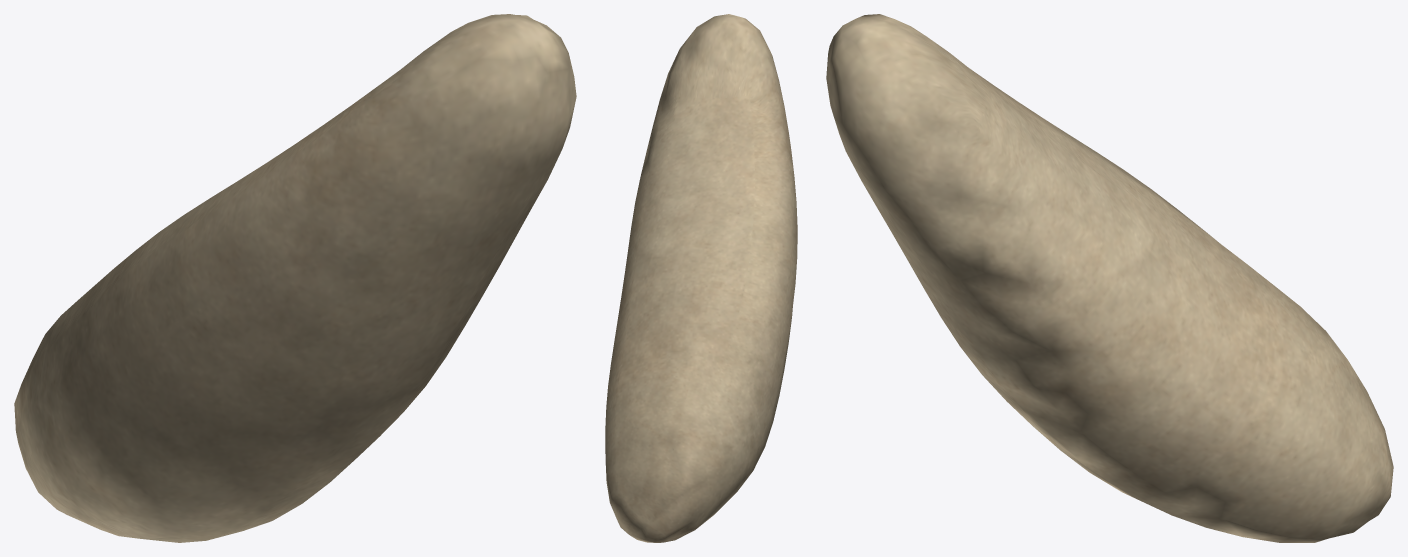
Rendered from lower_canine.glb.
3 renders of one model, left to right at view 1: azimuth 30°, elevation 25°; view 2: azimuth 150°, elevation 25°; view 3: azimuth 270°, elevation 25°, orthographic. The views are drawn at different scales.
Visible parts, largest first — view 1: Group2144_Mesh.002; view 2: Group2144_Mesh.002; view 3: Group2144_Mesh.002.
Boxes of the visible parts, x1,y1,x2,y2 form: Group2144_Mesh.002: (14, 14, 576, 542); Group2144_Mesh.002: (605, 14, 797, 542); Group2144_Mesh.002: (826, 14, 1393, 542).
Size of the model in its own units: 0.00883 by 0.017 by 0.0154.
Materials: 1 (1 with a texture image).
